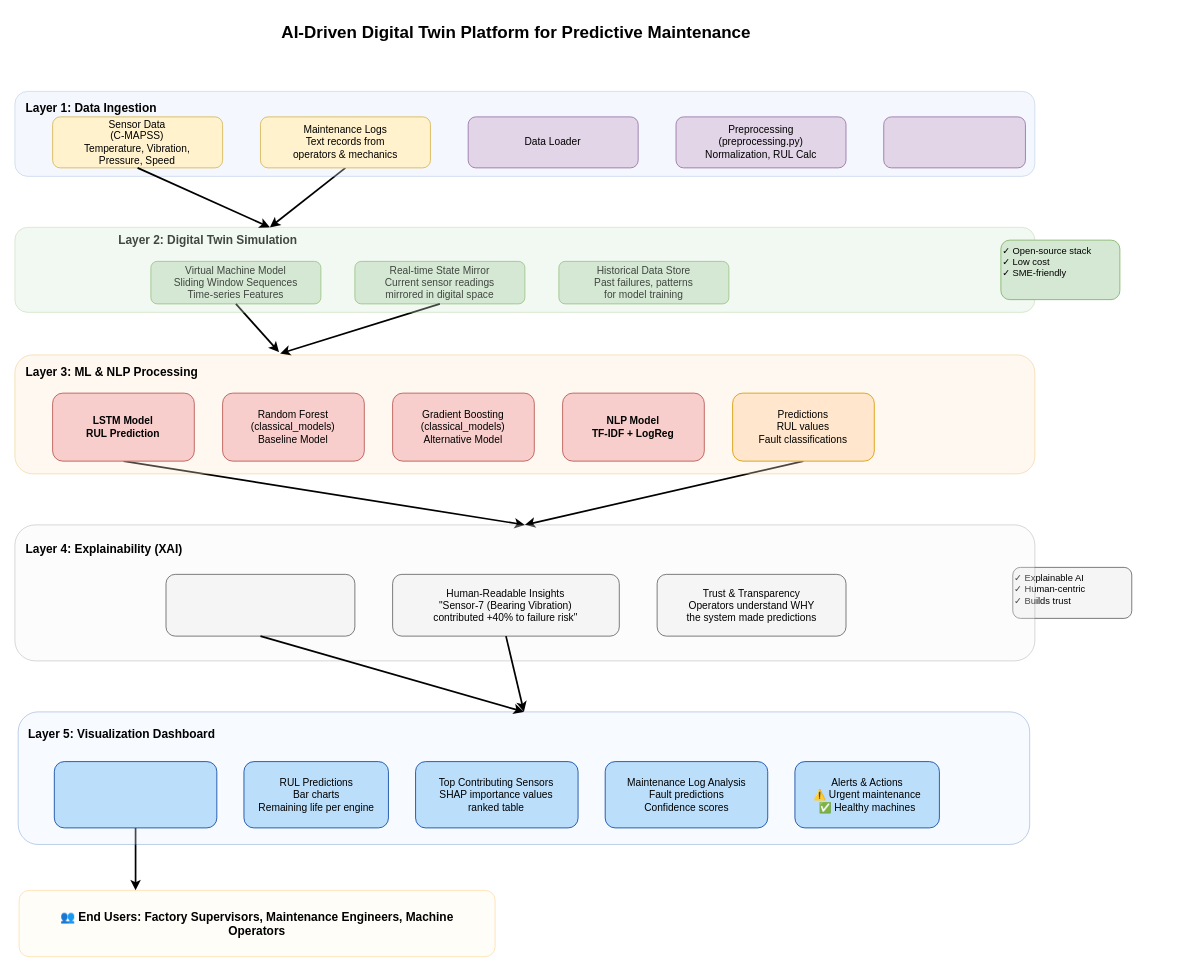
This 1189x972 diagram has some shape labels left out. Each missing label, with the centre of its shape:
"Data Preparation Windowing, Scaling" belongs at pixel 954 142.
"SHAP DeepExplainer Feature importance Top contributing sensors" belongs at pixel 260 604.
"Streamlit Web App (app.py) Real-time monitoring interface" belongs at pixel 135 794.
